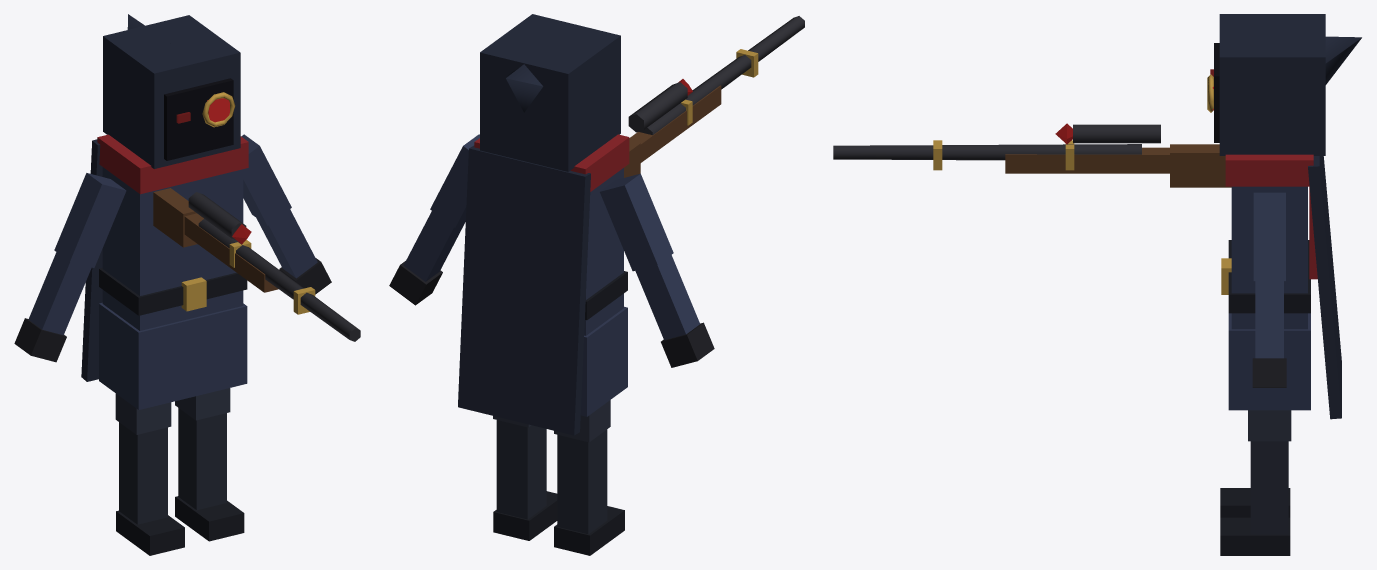
Rendered from BO_SK_Enemy_Marksman_v001.glb.
3 renders of one model, left to right at view 1: azimuth 30°, elevation 25°; view 2: azimuth 150°, elevation 25°; view 3: azimuth 270°, elevation 25°, orthographic. The views are drawn at different scales.
Visible parts, largest first — view 1: body_007, body_031, body_006, body_001, body_004, body_020, body_016, body_009, body_017, body_022, attachment_026, body_013 (+14 smaller); view 2: body_019, body_007, body_004, body_001, body_016, body_031, body_006, body_017, attachment_026, body_014, body_013, body_020 (+9 smaller); view 3: body_007, body_006, body_031, body_019, attachment_026, body_001, attachment_025, body_013, body_020, attachment_024, body_014, body_002 (+6 smaller).
Boxes of the visible parts, bbox=[...] form: body_007: bbox=[103, 15, 240, 168]; body_031: bbox=[99, 302, 247, 409]; body_006: bbox=[102, 167, 243, 330]; body_001: bbox=[178, 408, 226, 509]; body_004: bbox=[119, 422, 167, 524]; body_020: bbox=[97, 134, 248, 194]; body_016: bbox=[54, 173, 126, 267]; body_009: bbox=[164, 78, 233, 160]; body_017: bbox=[28, 252, 91, 335]; body_022: bbox=[99, 268, 247, 315]; attachment_026: bbox=[198, 218, 360, 341]; body_013: bbox=[241, 134, 291, 225]; body_019: bbox=[458, 145, 590, 435]; body_007: bbox=[480, 14, 620, 171]; body_004: bbox=[557, 429, 607, 534]; body_001: bbox=[496, 420, 546, 519]; body_016: bbox=[600, 173, 673, 271]; body_031: bbox=[580, 306, 627, 416]; body_006: bbox=[584, 168, 623, 335]; body_017: bbox=[635, 255, 699, 339]; attachment_026: bbox=[639, 16, 804, 135]; body_014: bbox=[403, 211, 465, 281]; body_013: bbox=[430, 134, 479, 227]; body_020: bbox=[474, 134, 629, 191]; body_007: bbox=[1219, 14, 1325, 155]; body_006: bbox=[1231, 186, 1307, 329]; body_031: bbox=[1228, 313, 1310, 410]; body_019: bbox=[1308, 156, 1341, 419]; attachment_026: bbox=[833, 144, 1141, 160]; body_001: bbox=[1250, 441, 1288, 534]; attachment_025: bbox=[1005, 147, 1169, 173]; body_013: bbox=[1253, 192, 1285, 281]; body_020: bbox=[1225, 154, 1313, 186]; attachment_024: bbox=[1170, 144, 1231, 187]; body_014: bbox=[1255, 281, 1283, 358]; body_002: bbox=[1220, 517, 1290, 555].
Size of the model in its own units: 1.22 by 1.87 by 1.8.
